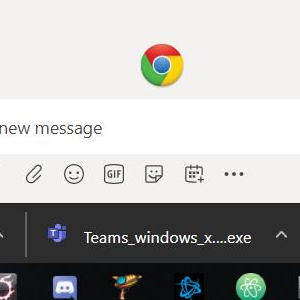chrome: (140, 43, 184, 88)
